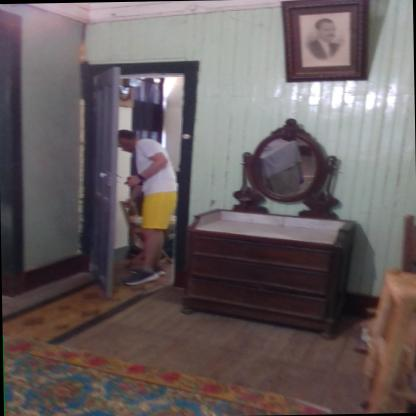semi: (69, 50, 210, 300)
